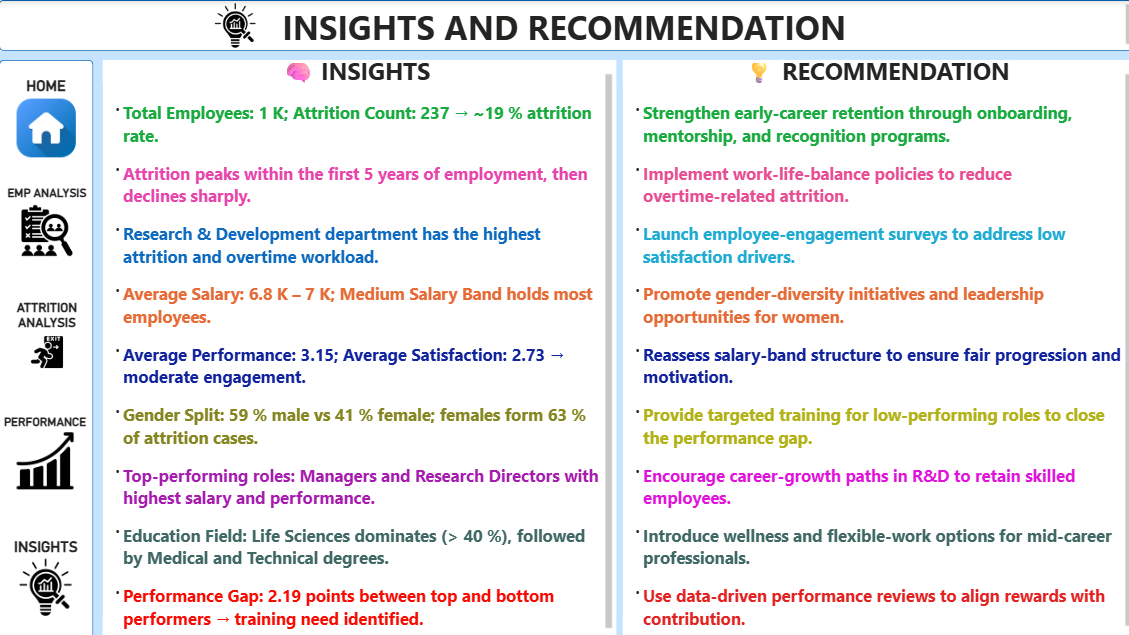

The dashboard page shown, as its layout file describes it:
{"tool":"powerbi","page":{"name":"Insights and Recommendation","canvas":[1280,720],"ordinal":4},"visuals":[{"type":"textbox","box":[0,0,1279.6,57.1],"z":1000},{"type":"shape","box":[0,0,1279.6,57.1],"z":1500},{"type":"shape","box":[116.3,67.3,577,653.1],"z":2000},{"type":"shape","box":[0,67.3,106.1,653.1],"z":3000},{"type":"image","title":"HOME","box":[0,87.8,106.1,89.8],"z":4000},{"type":"image","title":"EMP ANALYSIS","box":[2,210.2,104.1,79.6],"z":5000},{"type":"image","title":"ATTRITION ANALYSIS","box":[2,336.7,104.1,79.6],"z":6000},{"type":"image","title":"PERFORMANCE","box":[2,467.3,100,83.7],"z":7000},{"type":"image","title":"INSIGHTS","box":[4.1,604.1,98,87.8],"z":8000},{"type":"textbox","box":[116.3,67.3,577.6,653.1],"z":9000},{"type":"image","box":[226,4,80,50],"z":11000},{"type":"shape","box":[702,68,578,652],"z":12000},{"type":"textbox","box":[702,68,578,652],"z":12500}]}

Visuals, with their boxes in screenshot pixels (x1, y1, x2, y2), scaled from the page's 1280x720 canvas onto the 1129x635 screenshot:
textbox: left=0, top=0, right=1128, bottom=50
shape: left=0, top=0, right=1128, bottom=50
shape: left=103, top=59, right=612, bottom=634
shape: left=0, top=59, right=94, bottom=634
"HOME" image: left=0, top=77, right=94, bottom=157
"EMP ANALYSIS" image: left=2, top=185, right=94, bottom=256
"ATTRITION ANALYSIS" image: left=2, top=297, right=94, bottom=367
"PERFORMANCE" image: left=2, top=412, right=90, bottom=486
"INSIGHTS" image: left=4, top=533, right=90, bottom=610
textbox: left=103, top=59, right=612, bottom=634
image: left=199, top=4, right=270, bottom=48
shape: left=619, top=60, right=1128, bottom=634
textbox: left=619, top=60, right=1128, bottom=634
